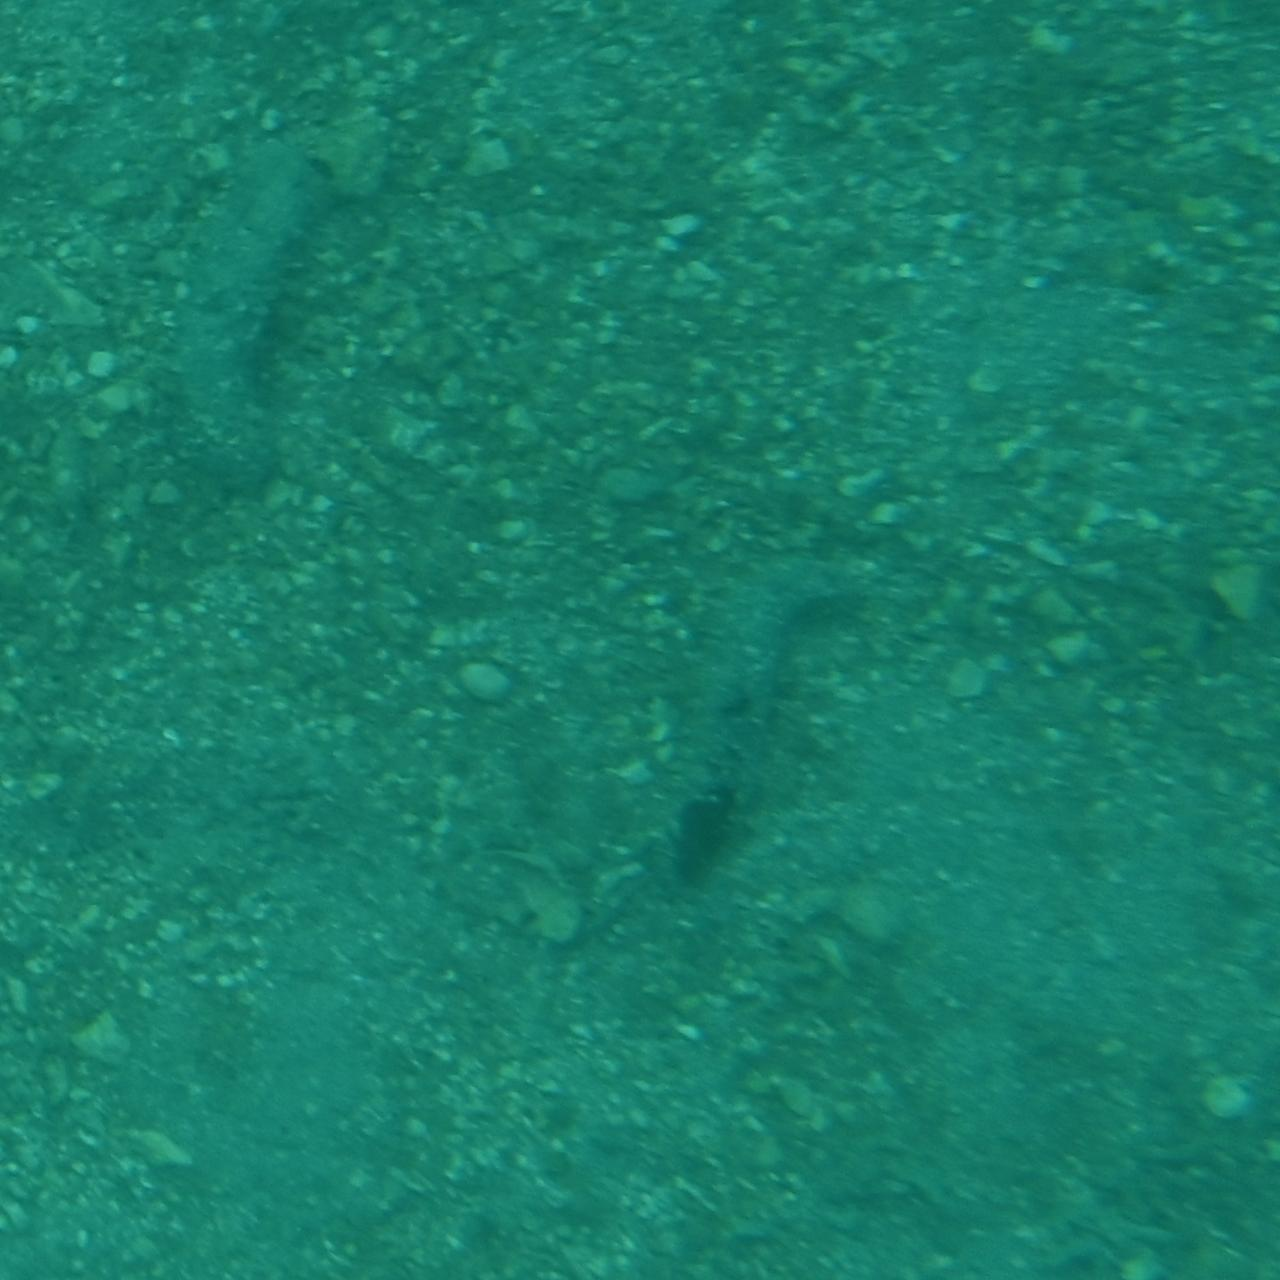Holothuria tubulosa: (182, 61, 394, 519), (649, 546, 908, 864), (0, 801, 186, 1182), (1212, 328, 1280, 898)
